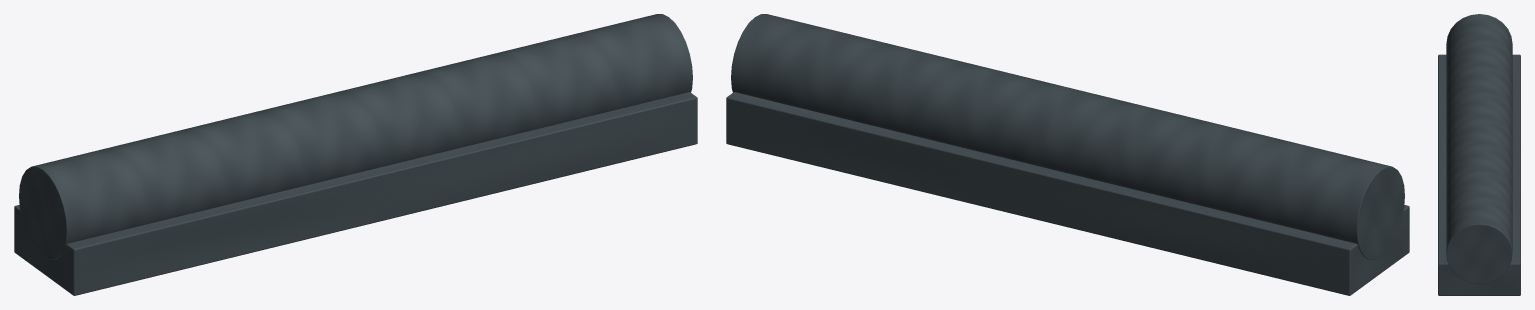
Rendered from roof_ridge.glb.
3 renders of one model, left to right at view 1: azimuth 30°, elevation 25°; view 2: azimuth 150°, elevation 25°; view 3: azimuth 270°, elevation 25°, orthographic. The views are drawn at different scales.
Parts seen in each view (by area): view 1: roof_ridge; view 2: roof_ridge; view 3: roof_ridge.
Part boxes in pixels (x1,y1,x2,y2): roof_ridge: [14, 14, 697, 295]; roof_ridge: [726, 14, 1409, 295]; roof_ridge: [1438, 14, 1520, 295].
Bounding box in the file's own units: 1.81 × 0.29 × 0.3.
1 material, 1 textured.
